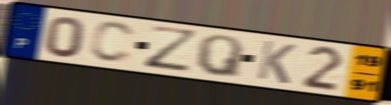0: (41, 14, 87, 60)
2: (301, 45, 346, 93)
C: (87, 20, 138, 65)
K: (255, 39, 299, 86)
Q: (195, 33, 245, 81)
Z: (142, 23, 202, 74)
